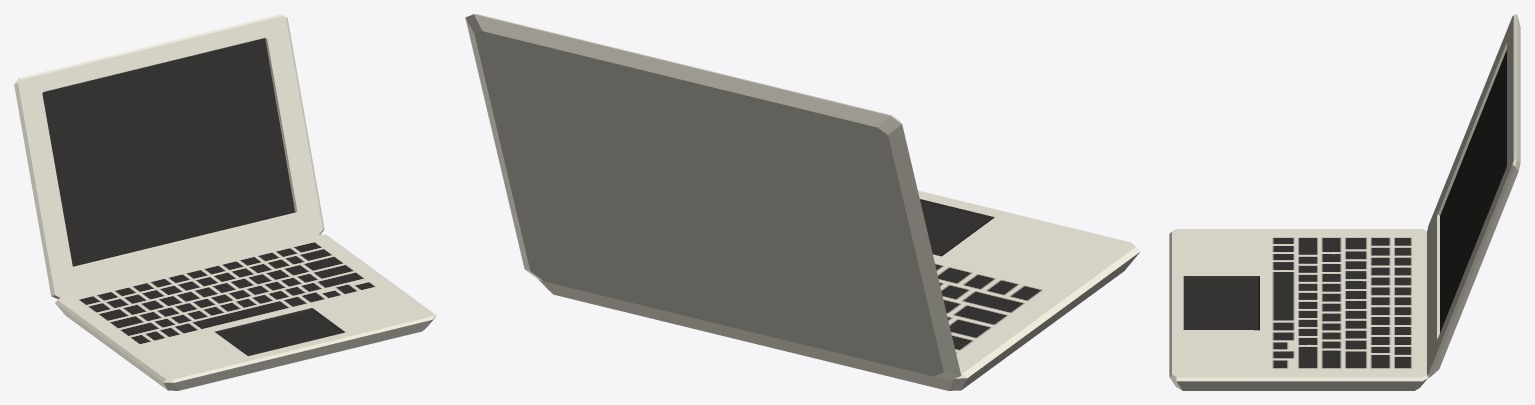
File: 18_prop_notebook.FBX
3 renders of one model, left to right at view 1: azimuth 30°, elevation 25°; view 2: azimuth 150°, elevation 25°; view 3: azimuth 270°, elevation 25°, orthographic. The views are drawn at different scales.
Parts seen in each view (by area): view 1: prop_notebook1, prop_notebook2; view 2: prop_notebook1, prop_notebook2; view 3: prop_notebook2, prop_notebook1.
Boxes of the visible parts, <box> form: prop_notebook1: <box>14,14,324,299</box>; prop_notebook2: <box>55,234,436,390</box>; prop_notebook1: <box>465,14,961,379</box>; prop_notebook2: <box>538,190,1140,390</box>; prop_notebook2: <box>1169,229,1428,390</box>; prop_notebook1: <box>1427,14,1520,377</box>.
Size of the model in its own units: 22.02 by 15.78 by 21.56.
